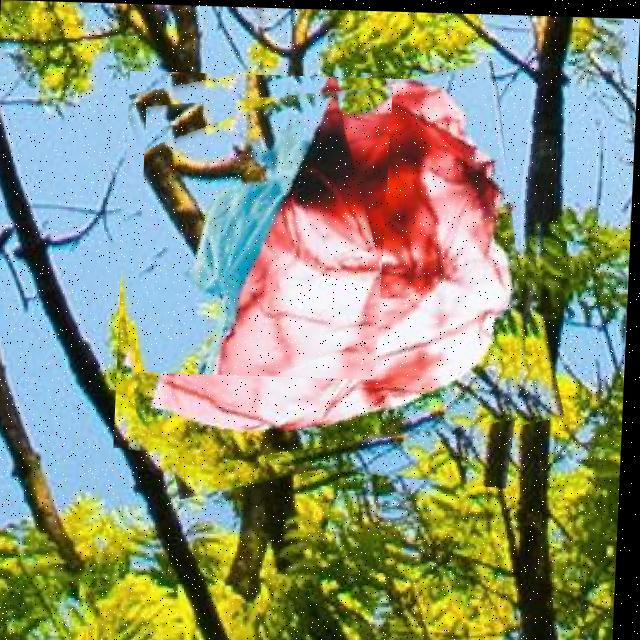litter: (115, 70, 560, 486), (137, 78, 392, 377)
